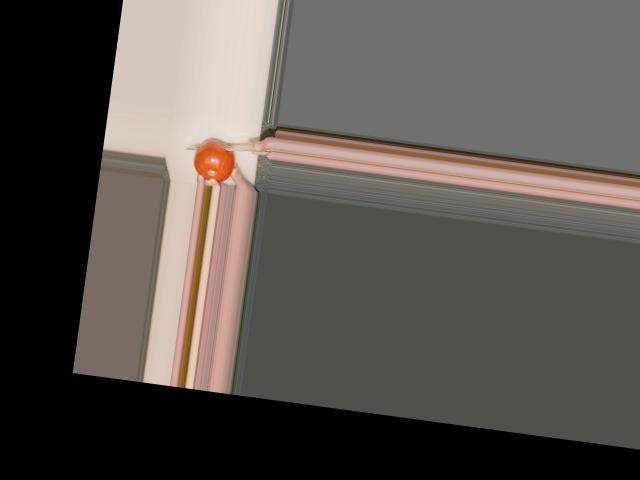tomato: (190, 136, 237, 183)
